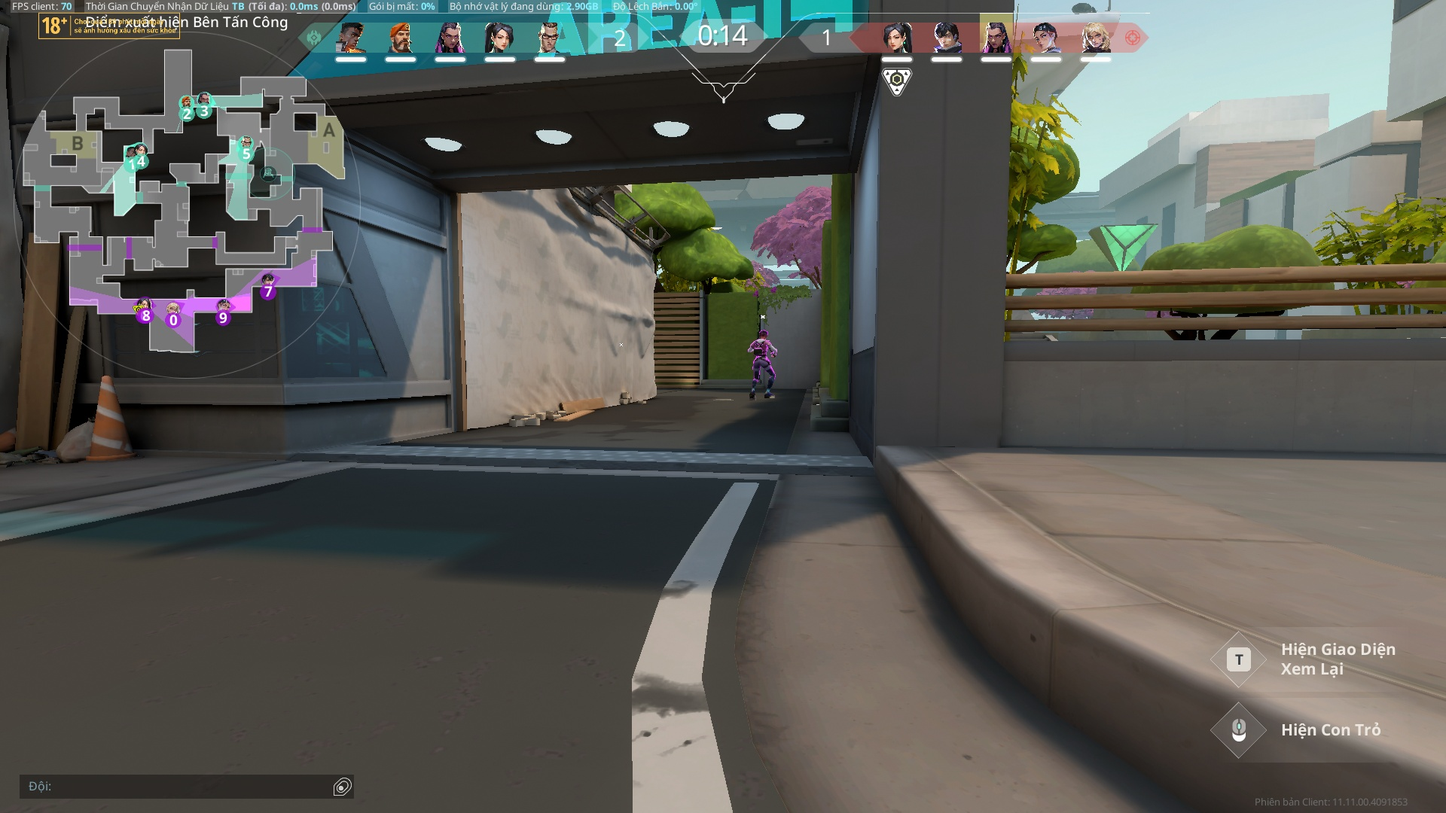body: (752, 338, 769, 358)
head: (758, 329, 767, 339)
